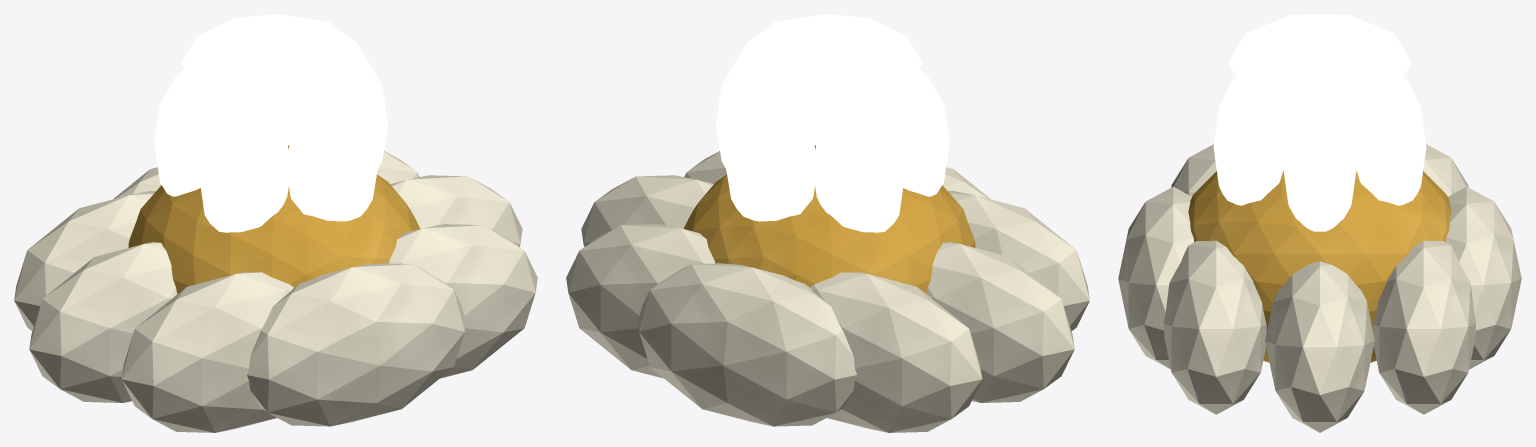
Rendered from verlichting.glb.
3 renders of one model, left to right at view 1: azimuth 30°, elevation 25°; view 2: azimuth 150°, elevation 25°; view 3: azimuth 270°, elevation 25°, orthographic. The views are drawn at different scales.
Parts seen in each view (by area): view 1: world; view 2: world; view 3: world.
Boxes of the visible parts, x1=… form: world: x1=14, y1=14, x2=537, y2=432; world: x1=566, y1=14, x2=1089, y2=432; world: x1=1118, y1=14, x2=1521, y2=432.
Size of the model in its own units: 1.38 by 0.9 by 1.02.
2 materials, 1 textured.
